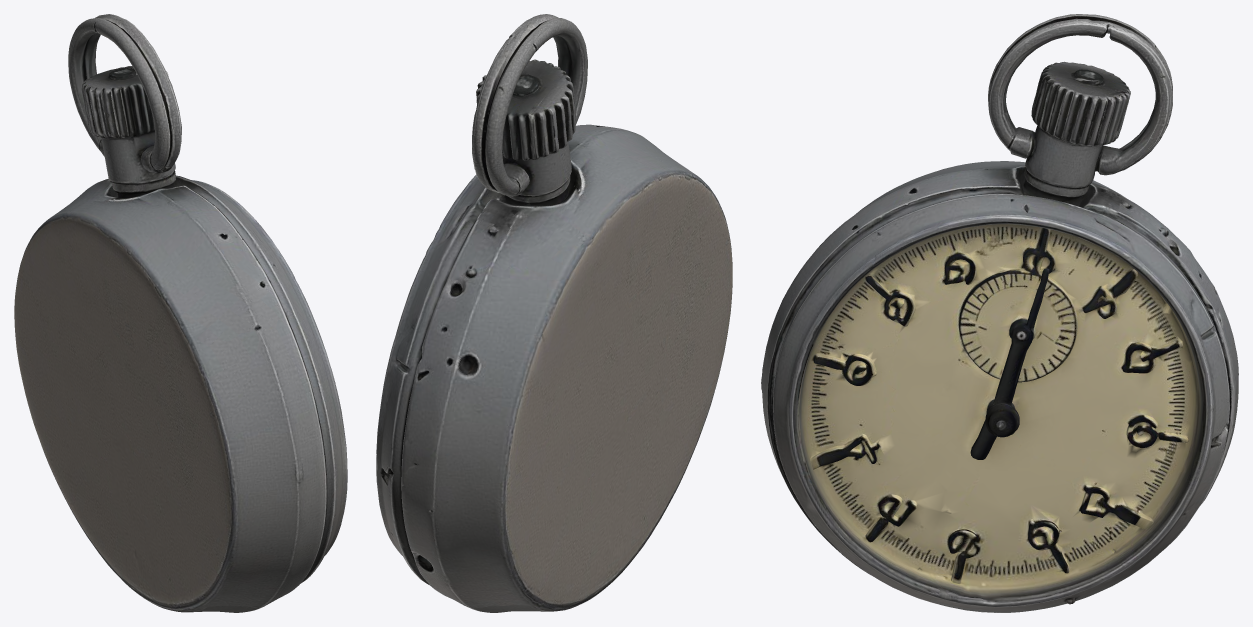
The model's file is adjustable-wrench.glb.
The picture shows the model from 3 angles, left to right: view 1: azimuth 30°, elevation 25°; view 2: azimuth 150°, elevation 25°; view 3: azimuth 270°, elevation 25°; orthographic projection. The views are drawn at different scales.
Parts seen in each view (by area): view 1: tripo_node_81d80619-18e5-4c69-af63-08fcf6afcab6; view 2: tripo_node_81d80619-18e5-4c69-af63-08fcf6afcab6; view 3: tripo_node_81d80619-18e5-4c69-af63-08fcf6afcab6.
Part boxes in pixels (<box>): tripo_node_81d80619-18e5-4c69-af63-08fcf6afcab6: <box>14,14,347,612</box>; tripo_node_81d80619-18e5-4c69-af63-08fcf6afcab6: <box>376,14,732,612</box>; tripo_node_81d80619-18e5-4c69-af63-08fcf6afcab6: <box>761,14,1238,612</box>.
Size of the model in its own units: 0.2892 by 1 by 0.7609.
Materials: 1 (1 with a texture image).
